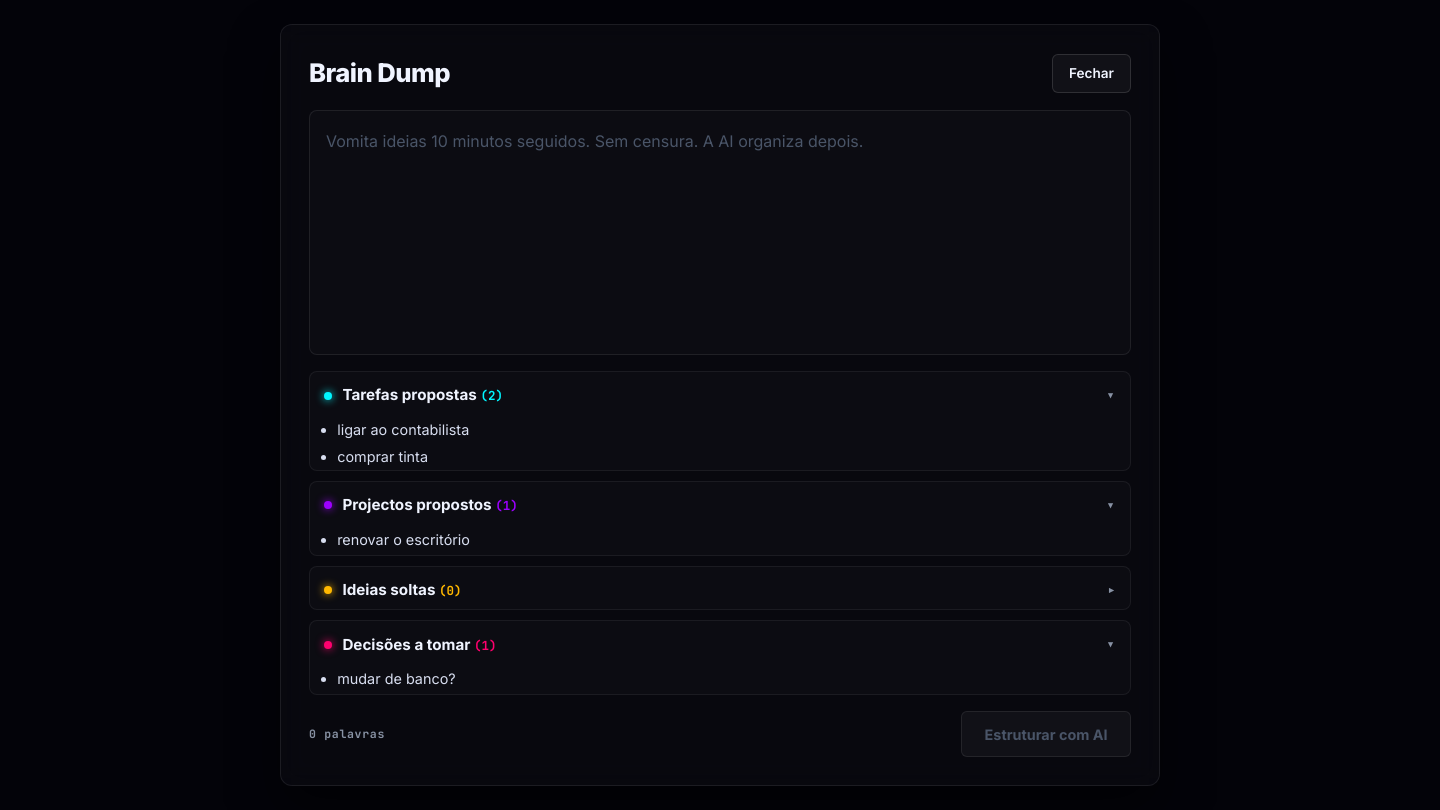
Scenario: BrainDumpModal — estados aiState (Story 5.7, AC4/AC5/AC6) › (parsed, a11y) clicar no cabeçalho alterna aria-expanded
Click the button "Ideias soltas (0) ▸".
click(389, 589)  # box [310,567,1130,614]
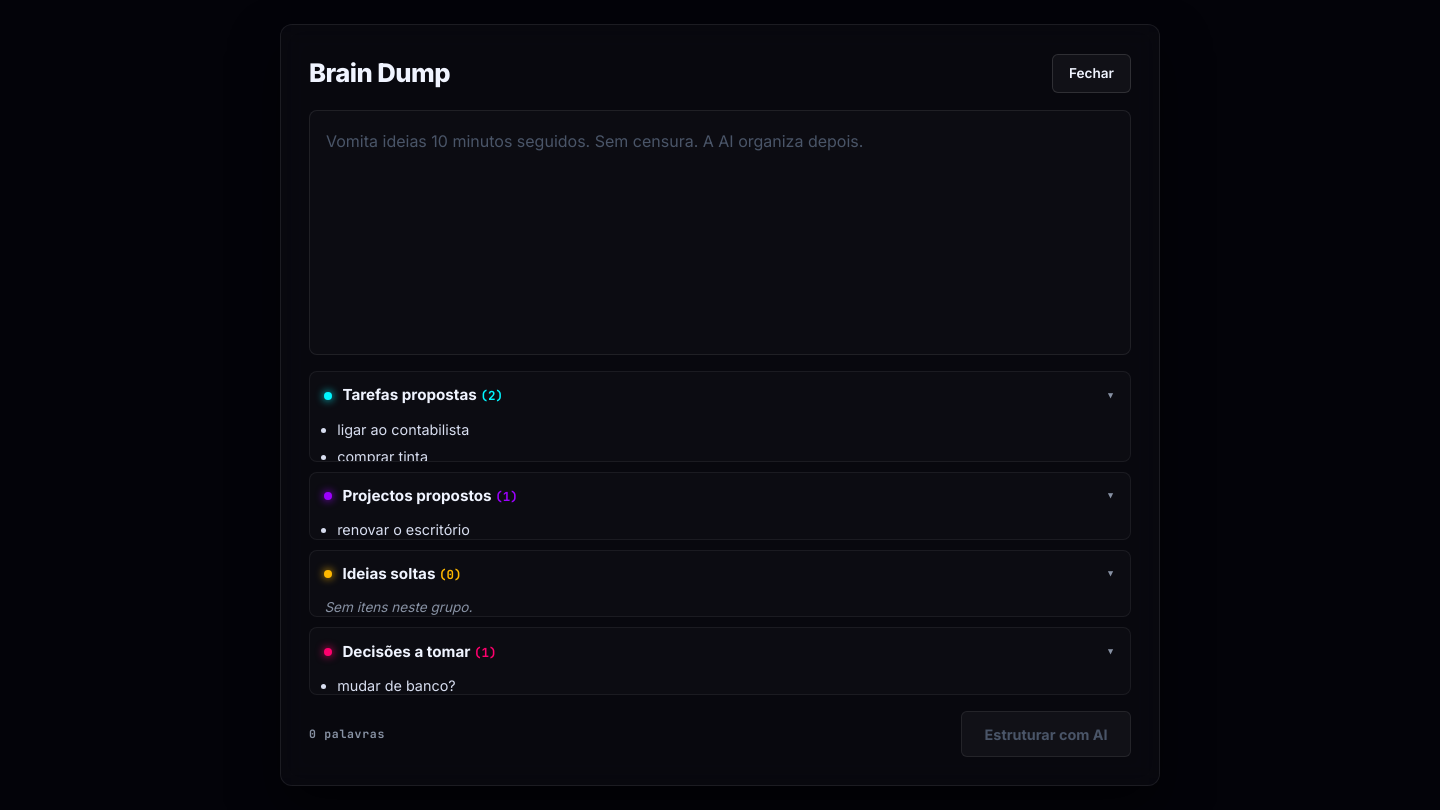
Expected: the button "Ideias soltas (0) ▸" is expanded, [310,550,1130,597]
